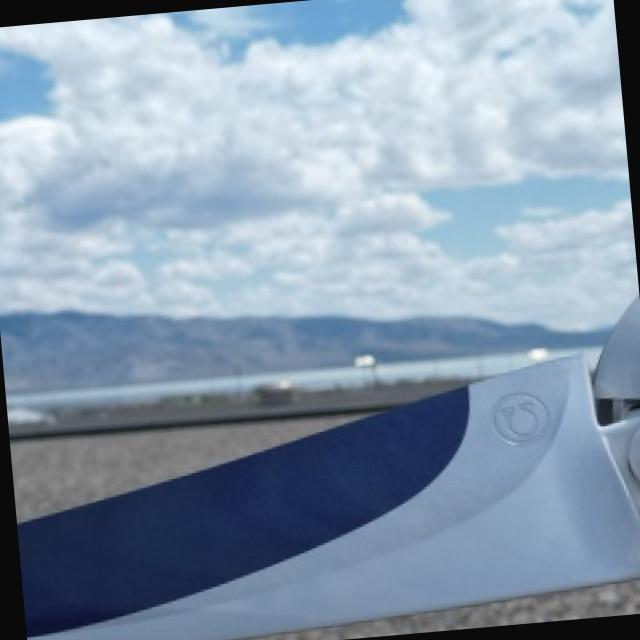healthy: (23, 296, 640, 640)
